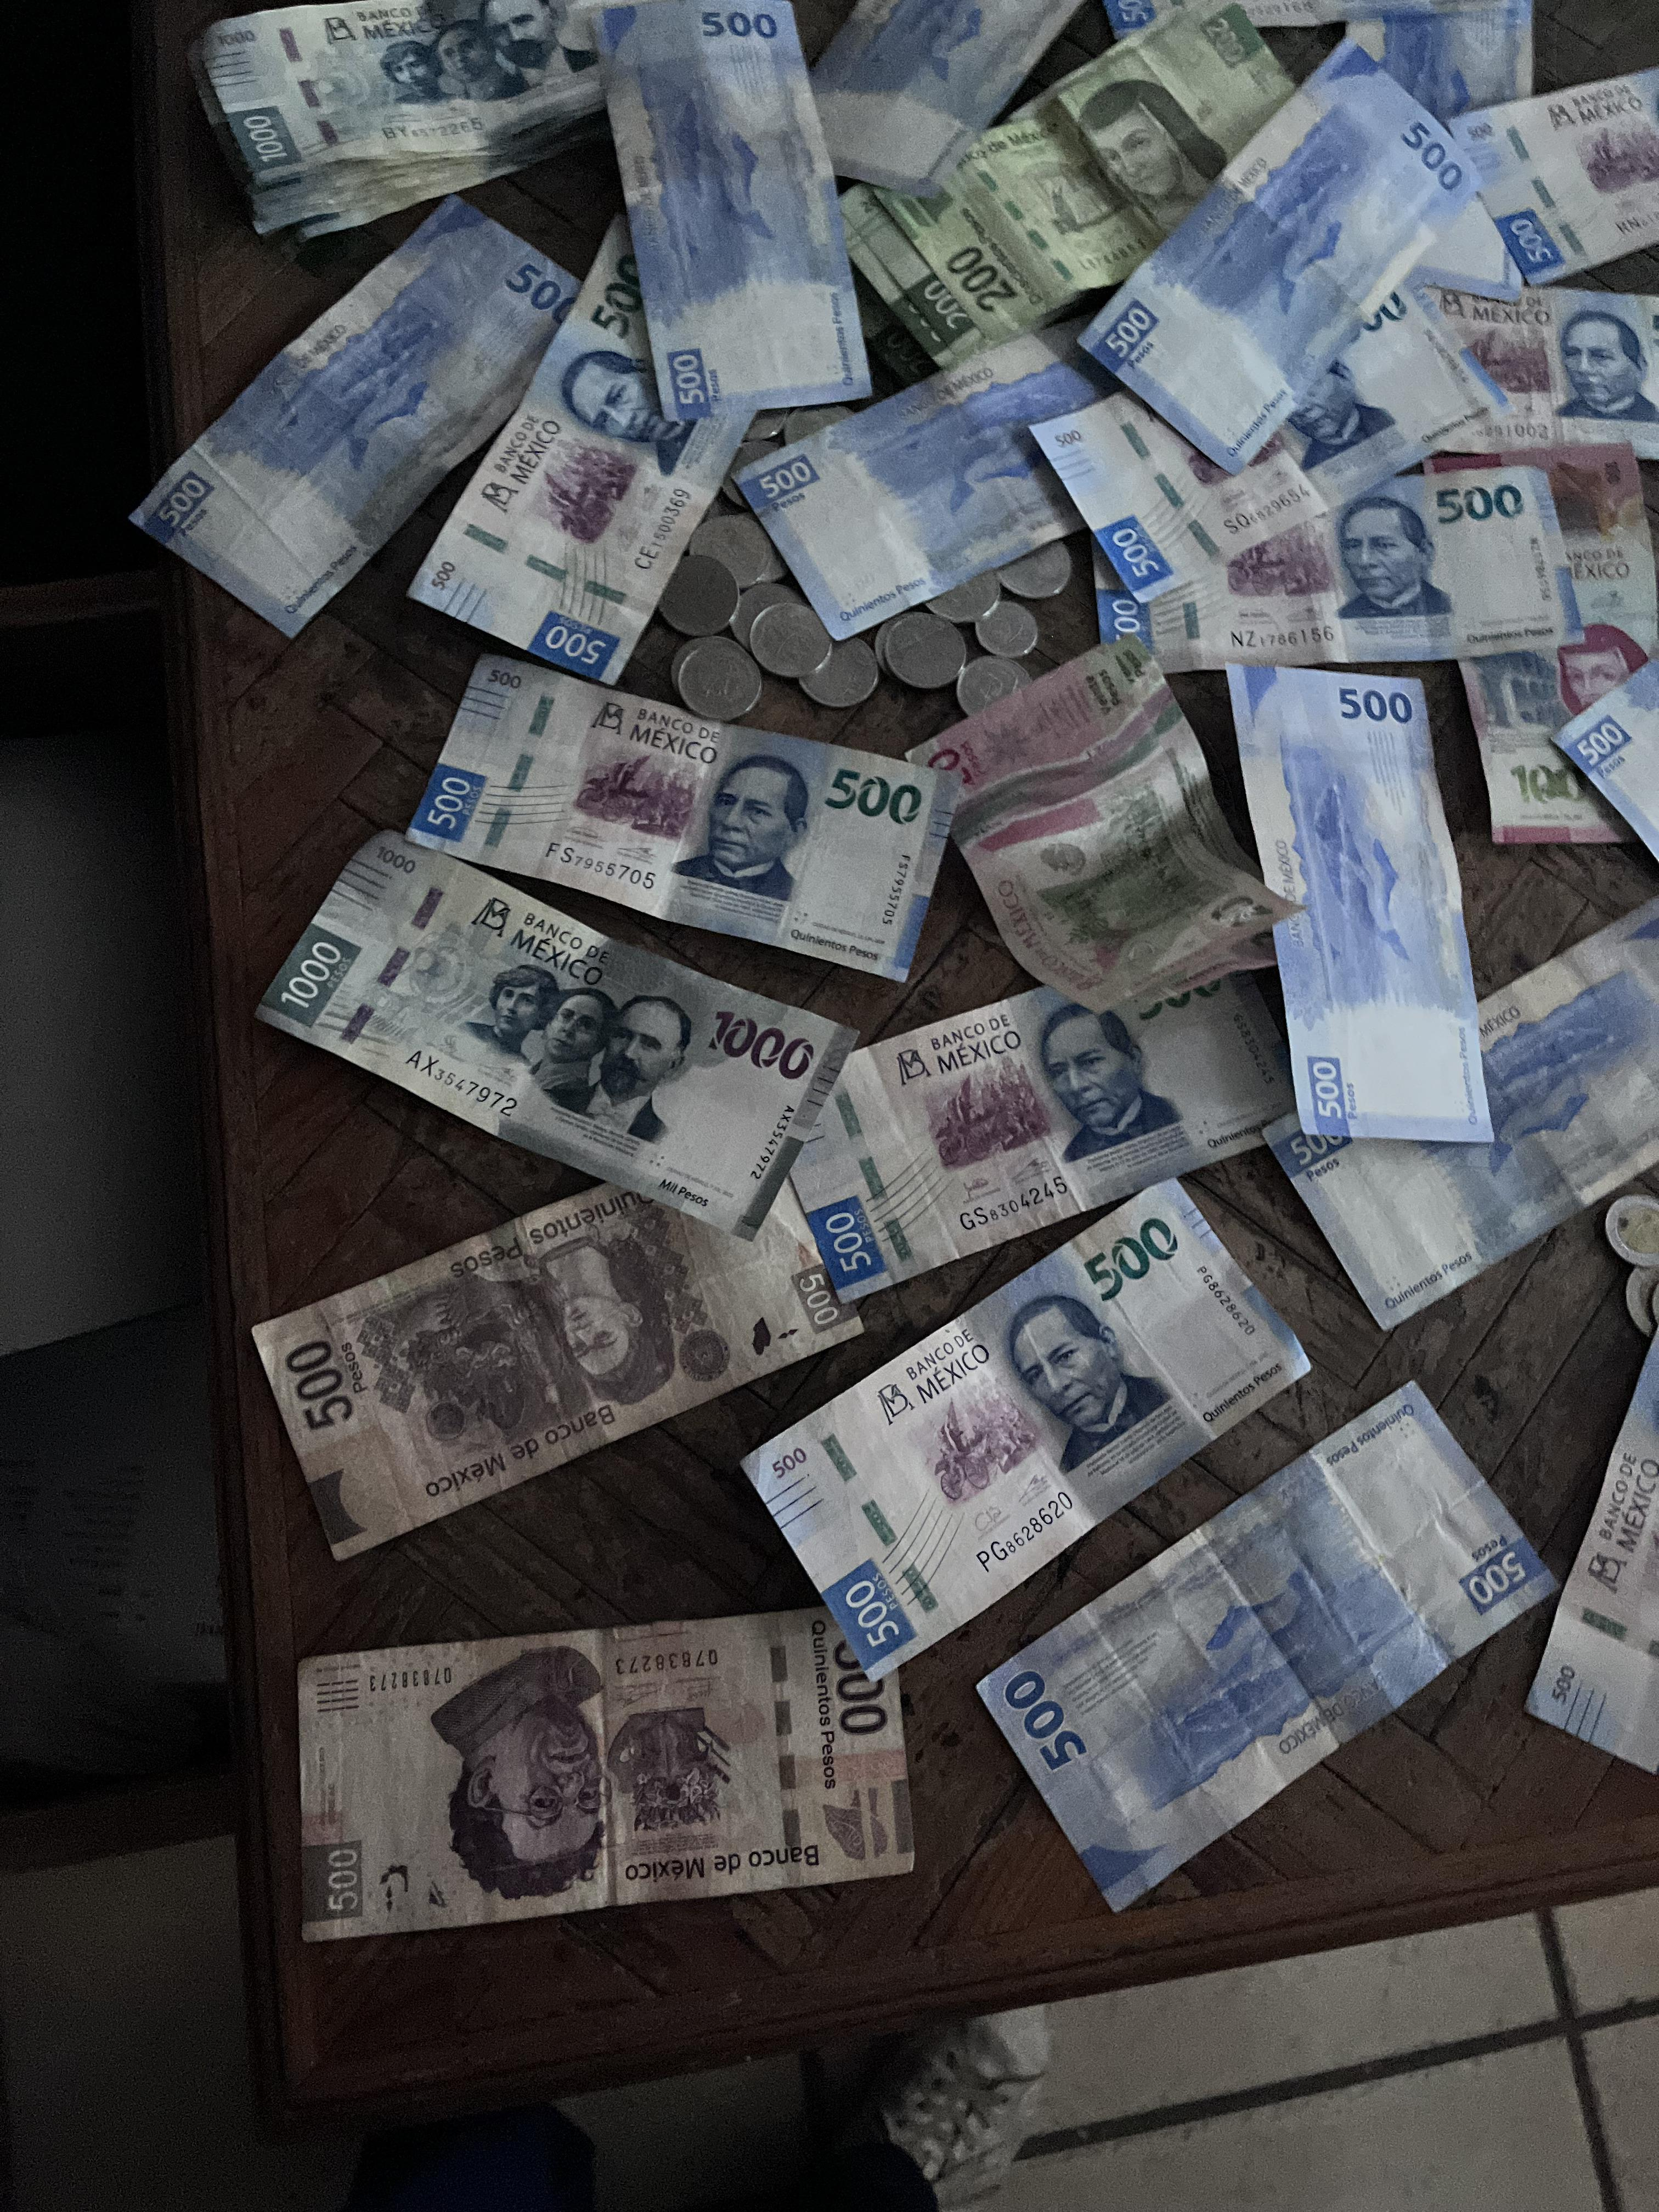100: (1477, 431, 1659, 862)
1000: (260, 863, 862, 1224), (187, 0, 670, 241)
20: (922, 639, 1302, 1027)
200: (833, 0, 1328, 376)
500: (249, 1170, 838, 1539), (289, 1621, 921, 1941)
500 nuevo: (981, 1399, 1561, 1911), (744, 1186, 1326, 1681), (133, 191, 591, 640), (414, 654, 972, 988), (777, 949, 1314, 1278), (1255, 889, 1659, 1325), (1091, 35, 1478, 472), (405, 211, 767, 671), (1210, 634, 1508, 1148), (742, 326, 1144, 613), (1079, 450, 1590, 667), (590, 1, 844, 426), (1538, 1282, 1658, 1795), (785, 0, 1086, 198), (1396, 254, 1659, 467), (1435, 52, 1659, 288), (1573, 640, 1659, 867)
